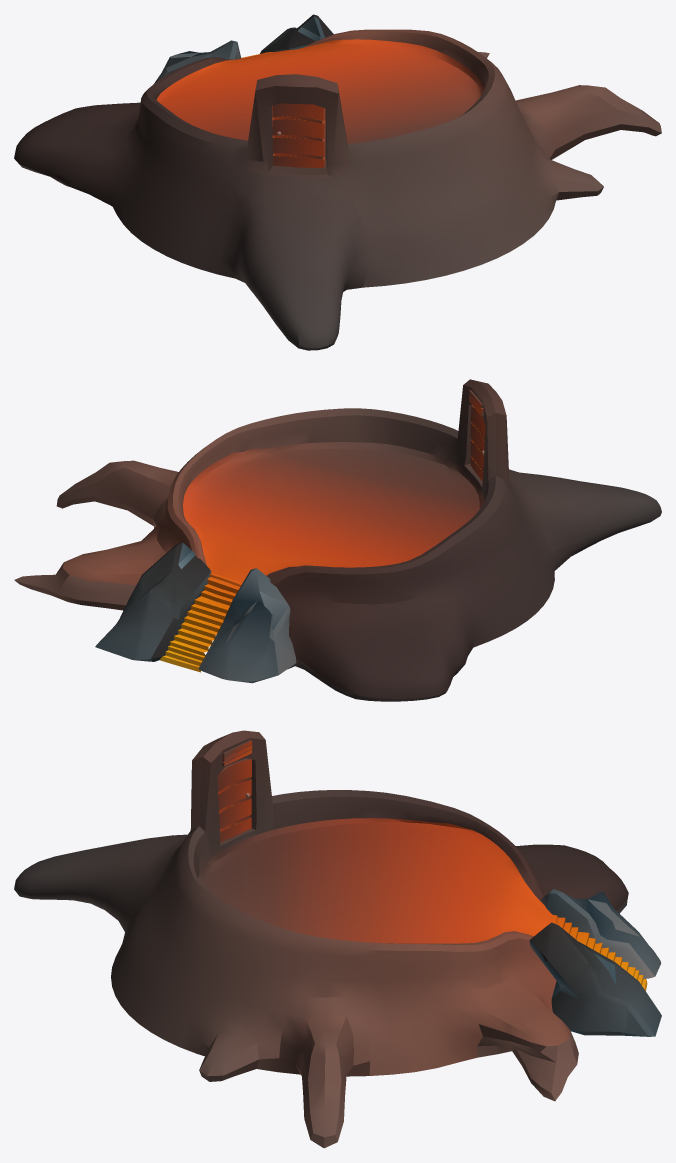
File: TocoCartoon.fbx
The picture shows the model from 3 angles, top to bottom: view 1: azimuth 30°, elevation 25°; view 2: azimuth 150°, elevation 25°; view 3: azimuth 270°, elevation 25°; orthographic projection. The views are drawn at different scales.
Visible parts, largest first — view 1: Toco, Door, Rock2, Rock; view 2: Toco, Rock, Rock2, Escada, Door; view 3: Toco, Rock2, Rock, Door, Escada.
Part boxes in pixels (box(x1,y1,x2,y2)): Toco: box(14, 29, 661, 350); Door: box(272, 103, 324, 168); Rock2: box(260, 14, 333, 53); Rock: box(154, 40, 241, 83); Toco: box(14, 379, 661, 701); Rock: box(198, 568, 296, 683); Rock2: box(95, 542, 211, 661); Escada: box(159, 573, 242, 672); Door: box(470, 405, 485, 480); Toco: box(14, 730, 628, 1148); Rock2: box(529, 922, 661, 1036); Rock: box(541, 889, 661, 978); Door: box(217, 758, 251, 842); Escada: box(552, 915, 647, 990).
Bounding box in the file's own units: 15.45 × 5.37 × 15.51.
